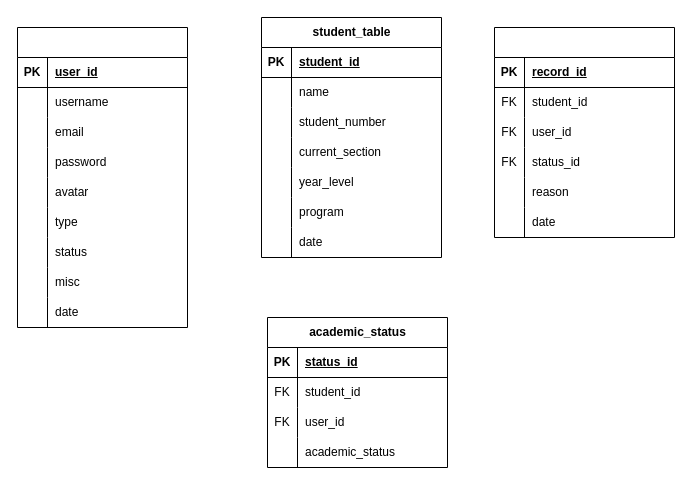
Some shapes in this 692 by 485 pixel diagram are drawn without their labels. The shapes that lost their labels are listed below. From the top down, each one's box as (x1, y1, x2, y2) in pixels, then its label:
(494, 26, 674, 238): status_record
(16, 26, 188, 328): users
